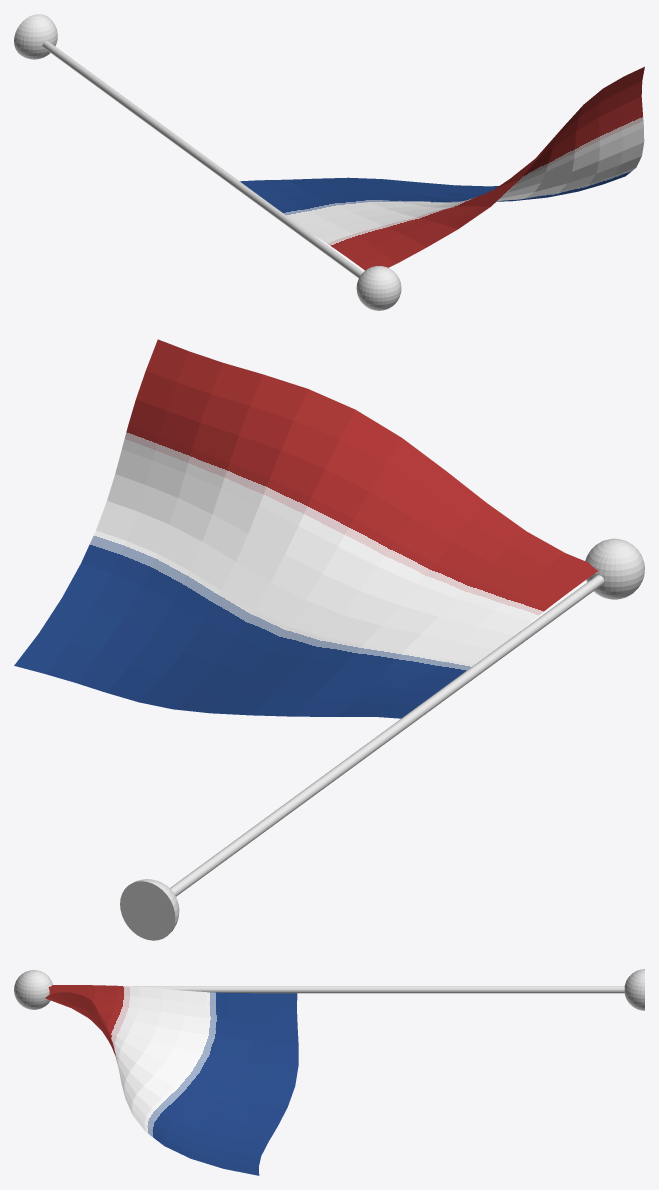
Rendered from holland.glb.
3 renders of one model, top to bottom at view 1: azimuth 30°, elevation 25°; view 2: azimuth 150°, elevation 25°; view 3: azimuth 270°, elevation 25°, orthographic. The views are drawn at different scales.
Parts seen in each view (by area): view 1: Plane.010, Cylinder.012, Sphere.033, Sphere.032; view 2: Plane.010, Cylinder.012, Sphere.032, Sphere.033; view 3: Plane.010, Cylinder.012, Sphere.033, Sphere.032.
Part boxes in pixels (x1,y1,x2,y2): Plane.010: [240, 66, 644, 270]; Cylinder.012: [42, 40, 363, 278]; Sphere.033: [356, 266, 401, 310]; Sphere.032: [14, 14, 57, 59]; Plane.010: [14, 339, 598, 718]; Cylinder.012: [170, 575, 604, 896]; Sphere.032: [120, 879, 179, 940]; Sphere.033: [585, 538, 644, 599]; Plane.010: [45, 985, 298, 1175]; Cylinder.012: [132, 986, 624, 993]; Sphere.033: [14, 970, 52, 1009]; Sphere.032: [624, 969, 644, 1010].
Size of what is drawn, in the model's own units: 0.8806 by 0.4405 by 1.59.
Materials: 2 (1 with a texture image).
